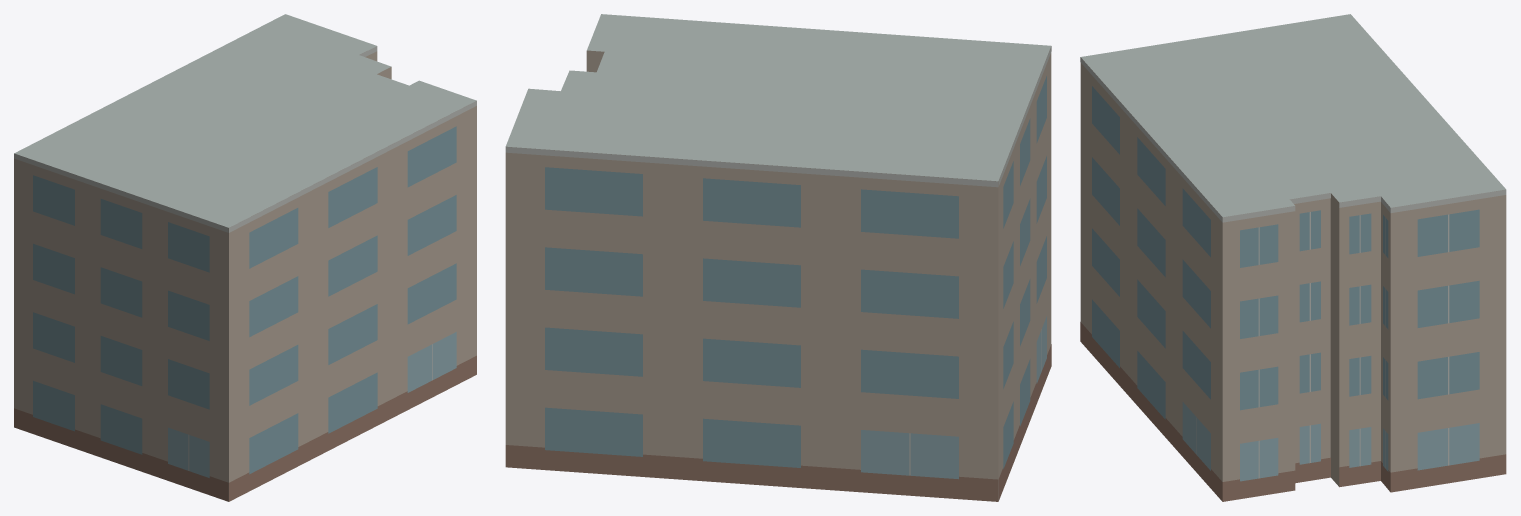
Rendered from survey-upis-32857396.glb.
3 views of the same model, side by side, from view 1: azimuth 30°, elevation 25°; view 2: azimuth 150°, elevation 25°; view 3: azimuth 270°, elevation 25° (orthographic). The views are drawn at different scales.
Parts seen in each view (by area): view 1: survey-upis-32857396.tmp; view 2: survey-upis-32857396.tmp; view 3: survey-upis-32857396.tmp.
Part boxes in pixels (x1,y1,x2,y2): survey-upis-32857396.tmp: (14,14,476,501); survey-upis-32857396.tmp: (505,14,1051,501); survey-upis-32857396.tmp: (1080,14,1506,501).
Size of the model in its own units: 19.93 by 13 by 17.64.
